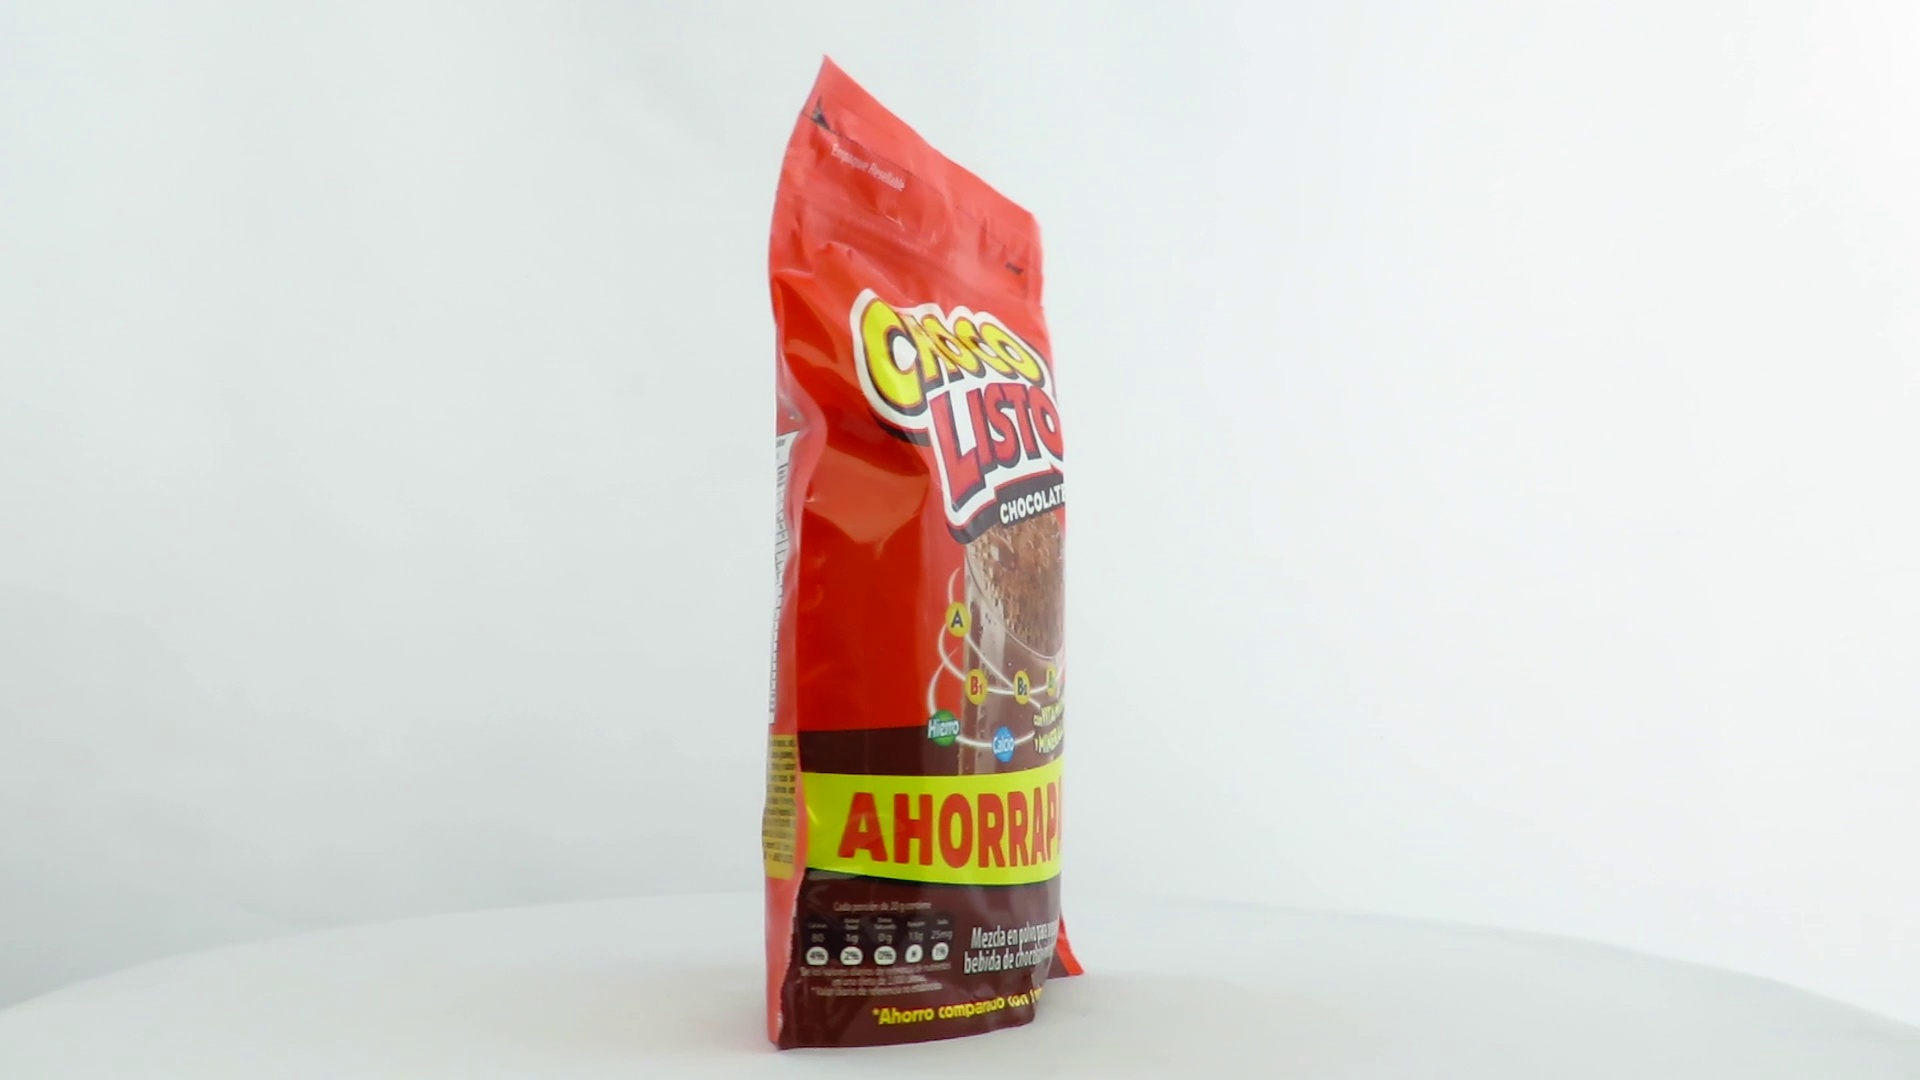COL0170103DYP40000: (756, 50, 1091, 1058)
